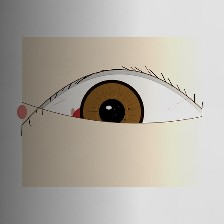hemorrhage_spot: (60, 80, 152, 154)
